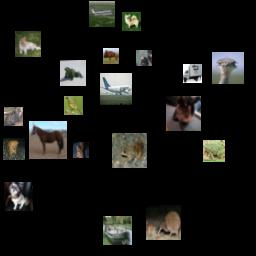airplane: (100, 73, 132, 105), (89, 1, 115, 27)
bird: (146, 205, 181, 240), (212, 52, 244, 84), (64, 96, 83, 115)
cat: (166, 96, 201, 131), (15, 31, 41, 57), (4, 107, 23, 126), (136, 50, 152, 66), (73, 142, 89, 158)
dog: (4, 182, 33, 211), (3, 138, 25, 160), (122, 12, 141, 31)
frog: (112, 133, 147, 168), (60, 60, 86, 86), (203, 140, 225, 162)
ship: (103, 216, 132, 245)
truck: (183, 64, 202, 83)
